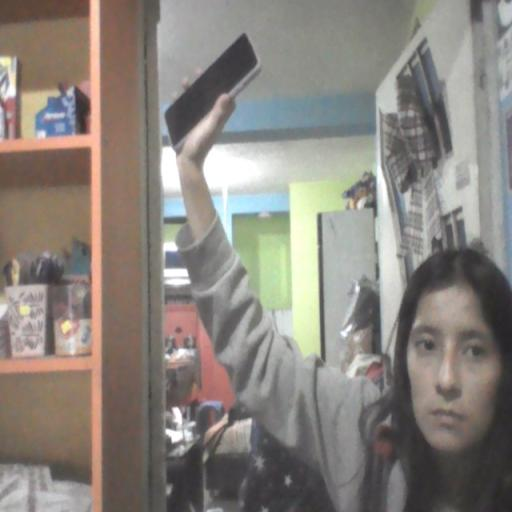phone: (159, 31, 269, 153)
